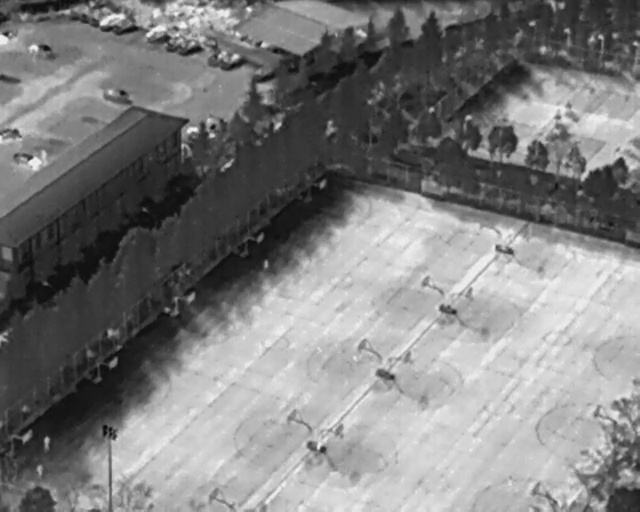Person: (43, 432, 51, 451), (36, 461, 44, 478), (263, 257, 269, 270)
